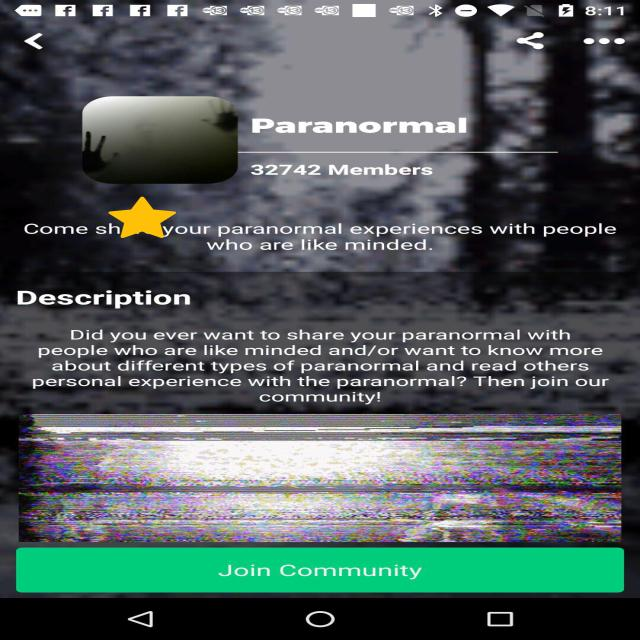forced continuity: (108, 197, 176, 238)
